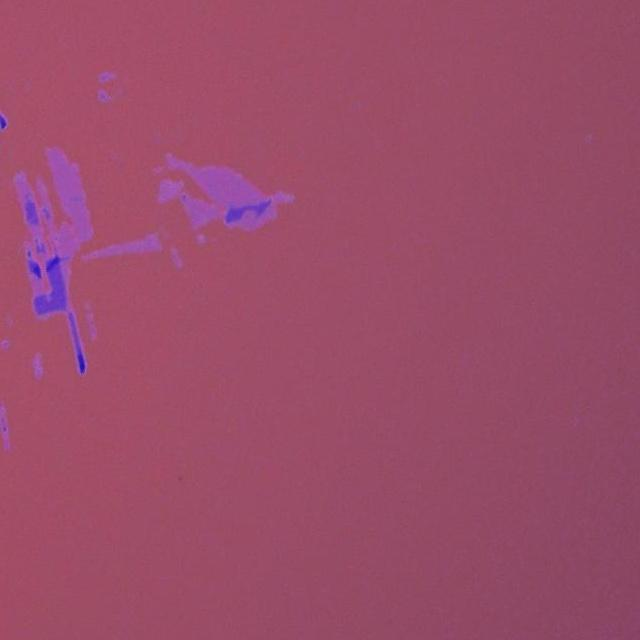monolayer-eWW4: (44, 144, 99, 244), (162, 154, 266, 206), (155, 176, 226, 232), (81, 237, 166, 262)
